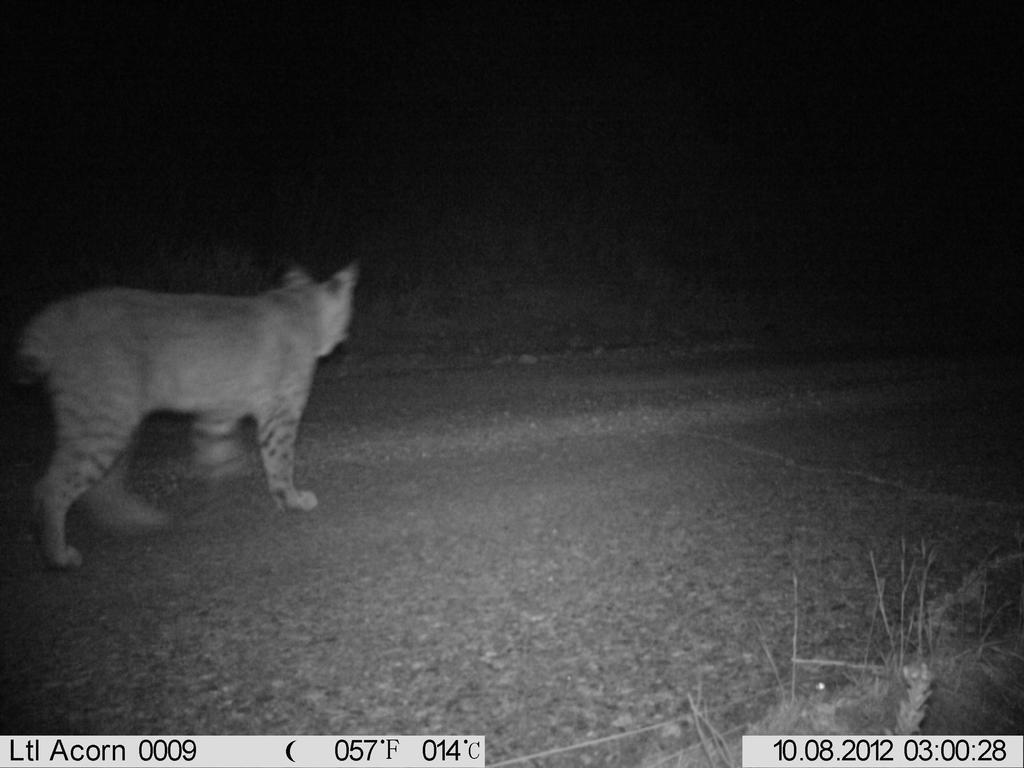bobcat: (12, 255, 370, 579)
